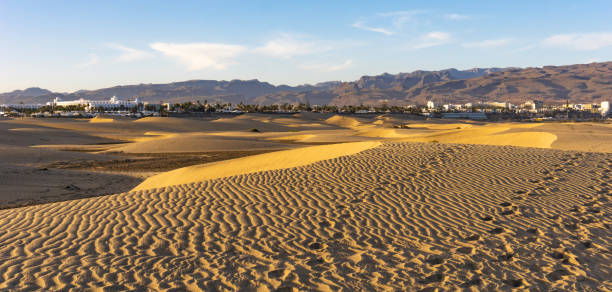human_footprint: (544, 218, 591, 236), (558, 261, 582, 285), (205, 275, 238, 292), (566, 201, 592, 221), (498, 245, 522, 266), (425, 254, 458, 268), (318, 215, 342, 234), (500, 196, 517, 220), (550, 247, 574, 264), (504, 274, 526, 292), (464, 275, 492, 289), (350, 194, 370, 212), (465, 226, 482, 247), (400, 169, 425, 183), (487, 224, 512, 238), (308, 236, 331, 251), (590, 184, 604, 206), (455, 244, 476, 258), (158, 283, 190, 292), (478, 208, 495, 224), (534, 180, 550, 195), (540, 166, 555, 182), (514, 186, 528, 198), (418, 164, 438, 172), (376, 179, 380, 180)
